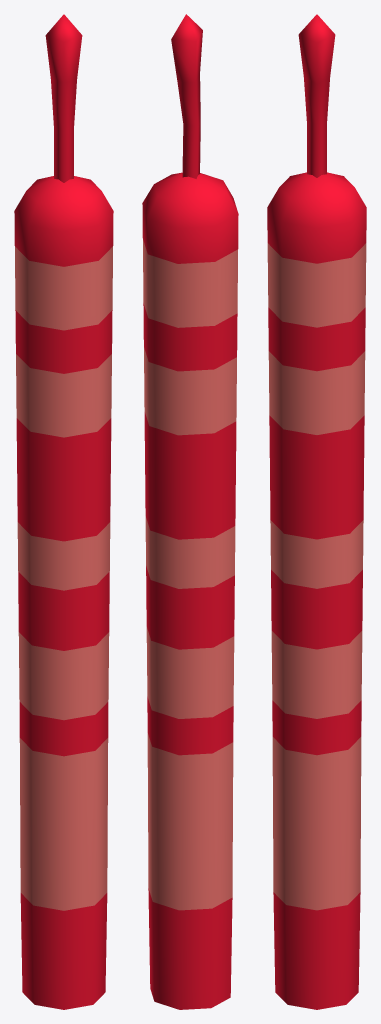
File: birthday_candle_001.glb
3 renders of one model, left to right at view 1: azimuth 90°, elevation 25°; view 2: azimuth 210°, elevation 25°; view 3: azimuth 270°, elevation 25°, orthographic.
Parts seen in each view (by area): view 1: birthday_candle_001; view 2: birthday_candle_001; view 3: birthday_candle_001.
Part boxes in pixels (left/top/right/bottom): birthday_candle_001: left=14, top=14, right=113, bottom=1009; birthday_candle_001: left=142, top=14, right=238, bottom=1009; birthday_candle_001: left=267, top=14, right=366, bottom=1009.
Bounding box in the file's own units: 0.9222 × 10.03 × 0.9222.
Materials: 1 (1 with a texture image).
